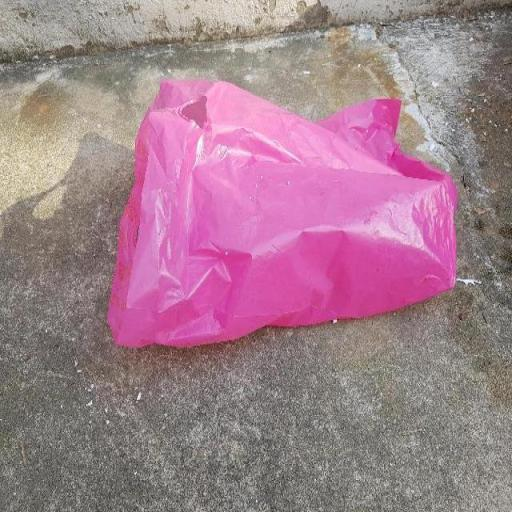polythene: (108, 80, 455, 346)
